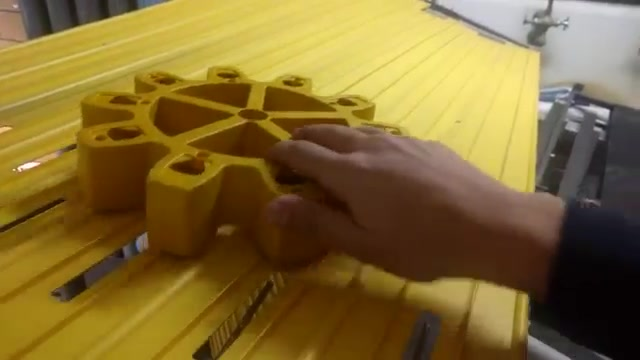gear: (78, 47, 419, 303)
